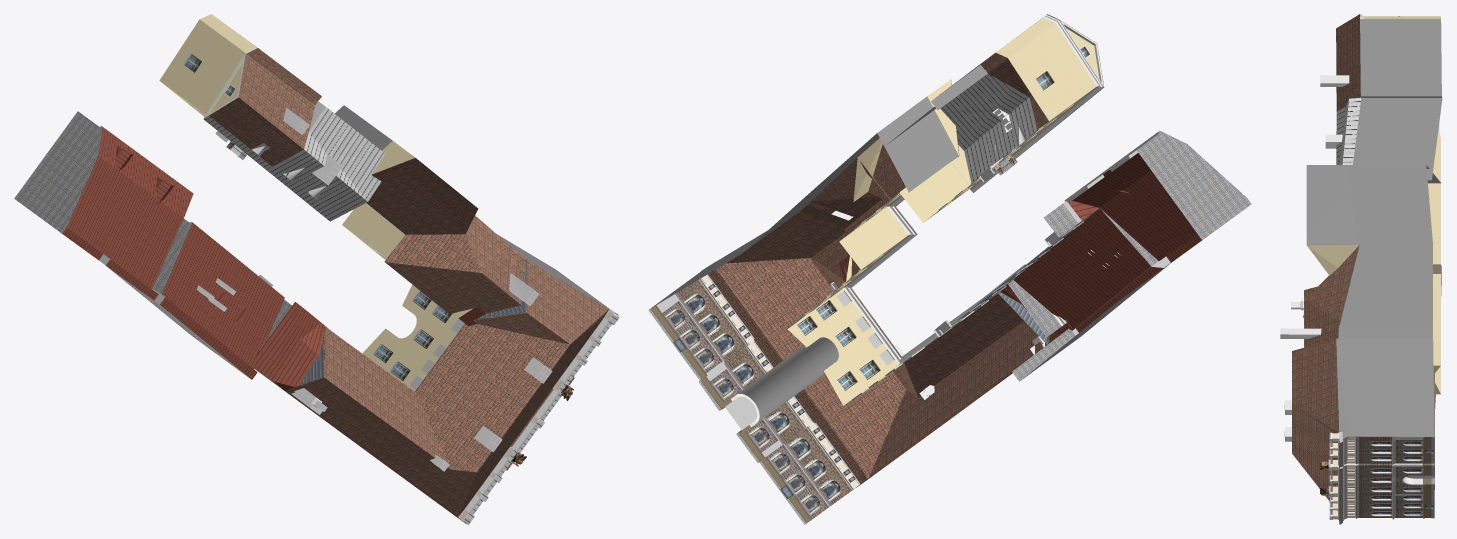
File: Lai_9.obj
3 renders of one model, left to right at view 1: azimuth 30°, elevation 25°; view 2: azimuth 150°, elevation 25°; view 3: azimuth 270°, elevation 25°, orthographic. The views are drawn at different scales.
Visible parts, largest first — view 1: Lai_9, xxx; view 2: Lai_9, xxx; view 3: xxx, Lai_9.
Boxes of the visible parts, box(x1,y1,x2,y2) form: Lai_9: box(14, 14, 619, 524); xxx: box(240, 35, 606, 307); Lai_9: box(648, 14, 1251, 524); xxx: box(649, 19, 1040, 309); xxx: box(1306, 19, 1442, 437); Lai_9: box(1280, 14, 1441, 524).
Size of the model in its own units: 61.86 by 55.85 by 19.14.
